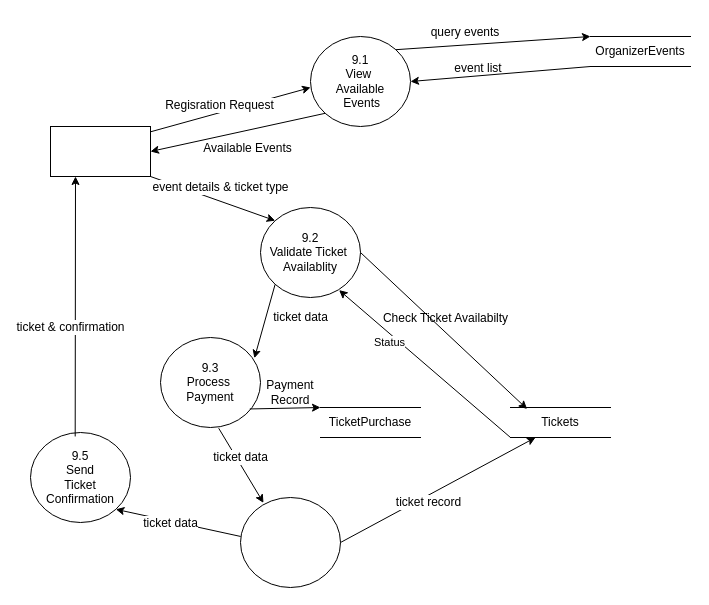
This 709x605 diagram has some shape labels left out. The shapes that lost their labels are listed below. From the top down, each one's box as (x1, y1, x2, y2) in pixels, then its label:
(50, 126, 150, 176): user
(240, 496, 340, 588): 9.4 Generate Ticket
